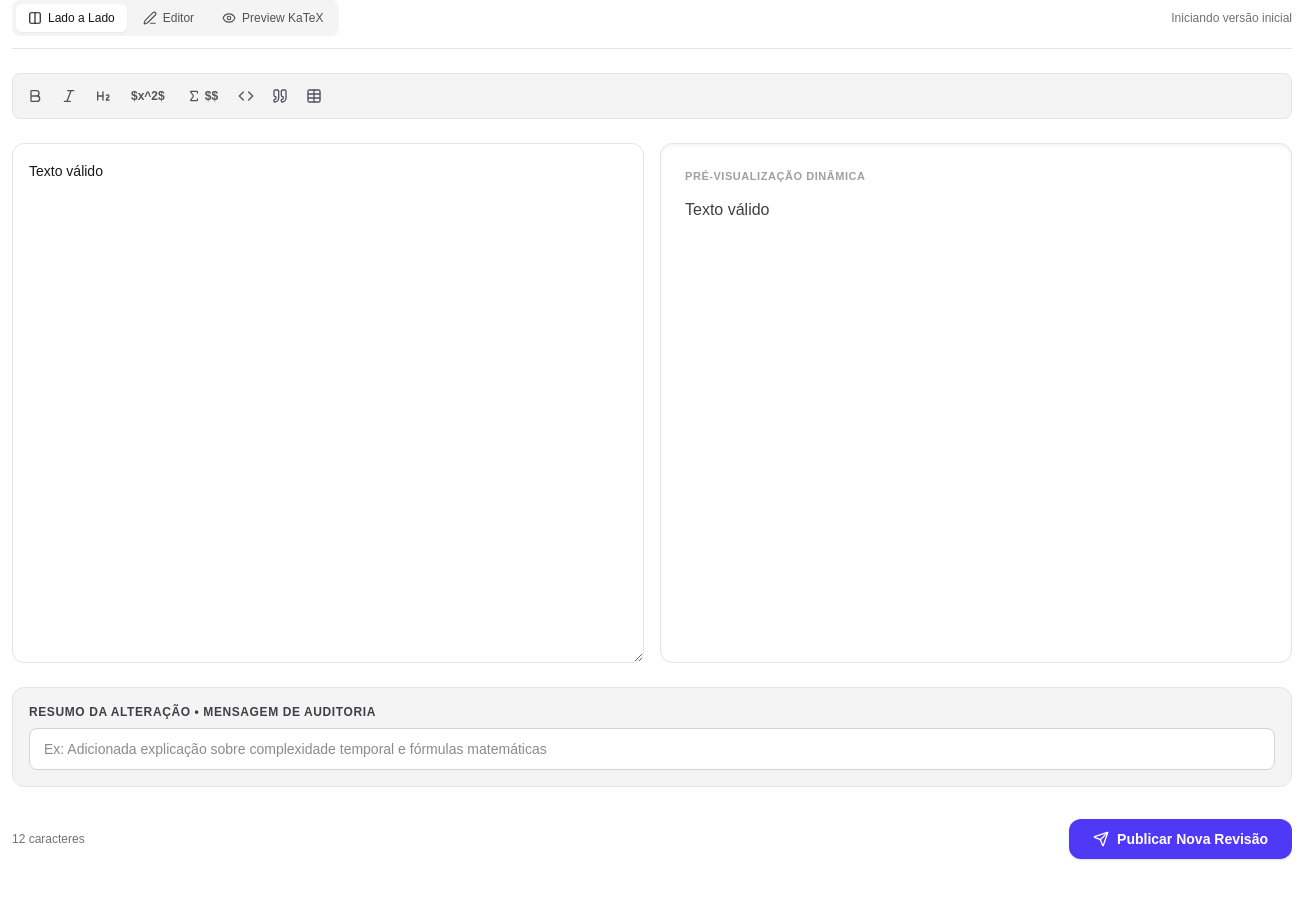
Test: MaterialEditor Component › handles non-Error rejection during submission
Replace the text in the field with placeholder "Ex: Adicionada explicação" with "Tentativa não-error" at (652, 749), box [29,728,1275,770]
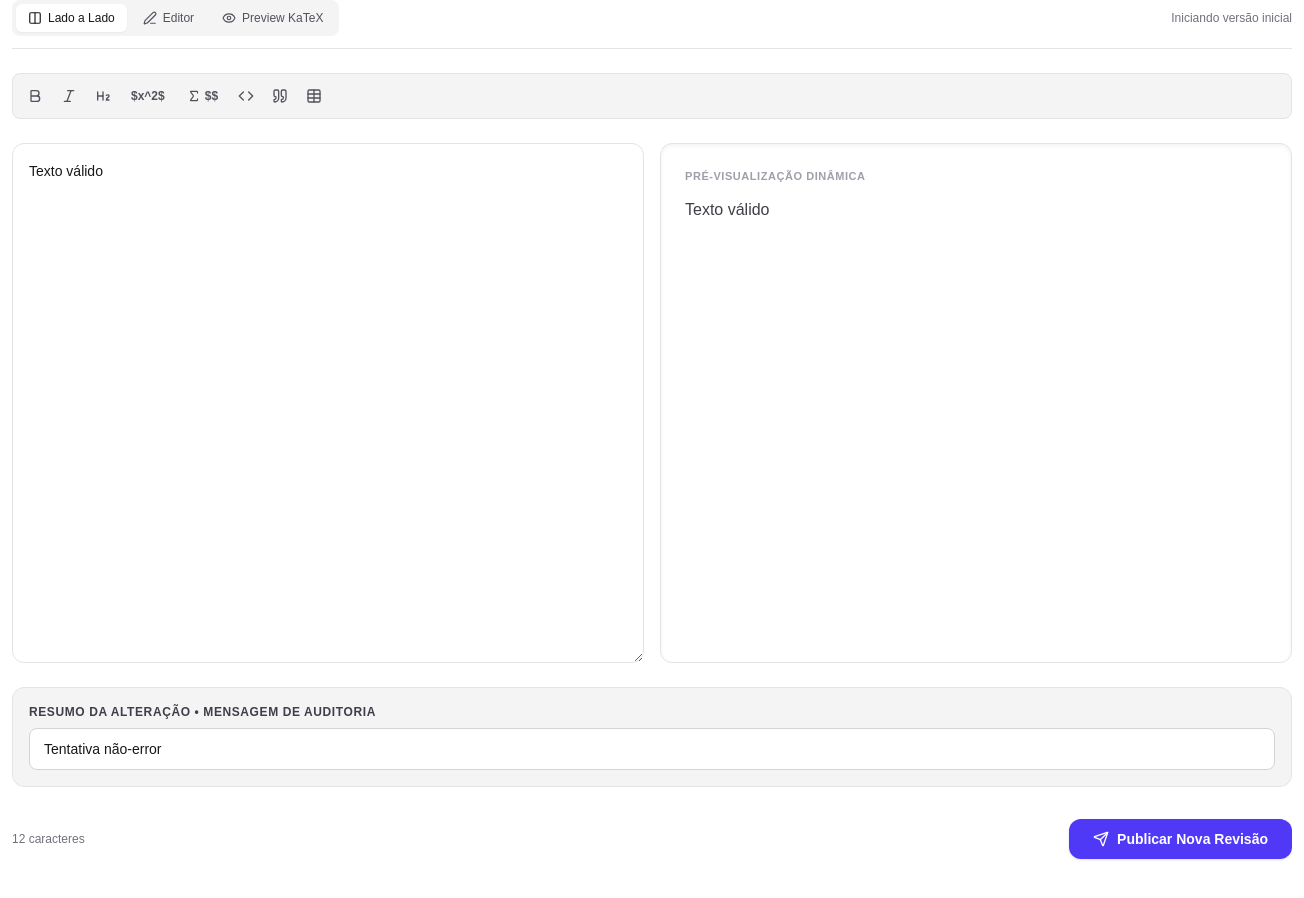
Click the button "Publicar Nova Revisão".
click(1180, 839)  # box [1069,819,1292,859]
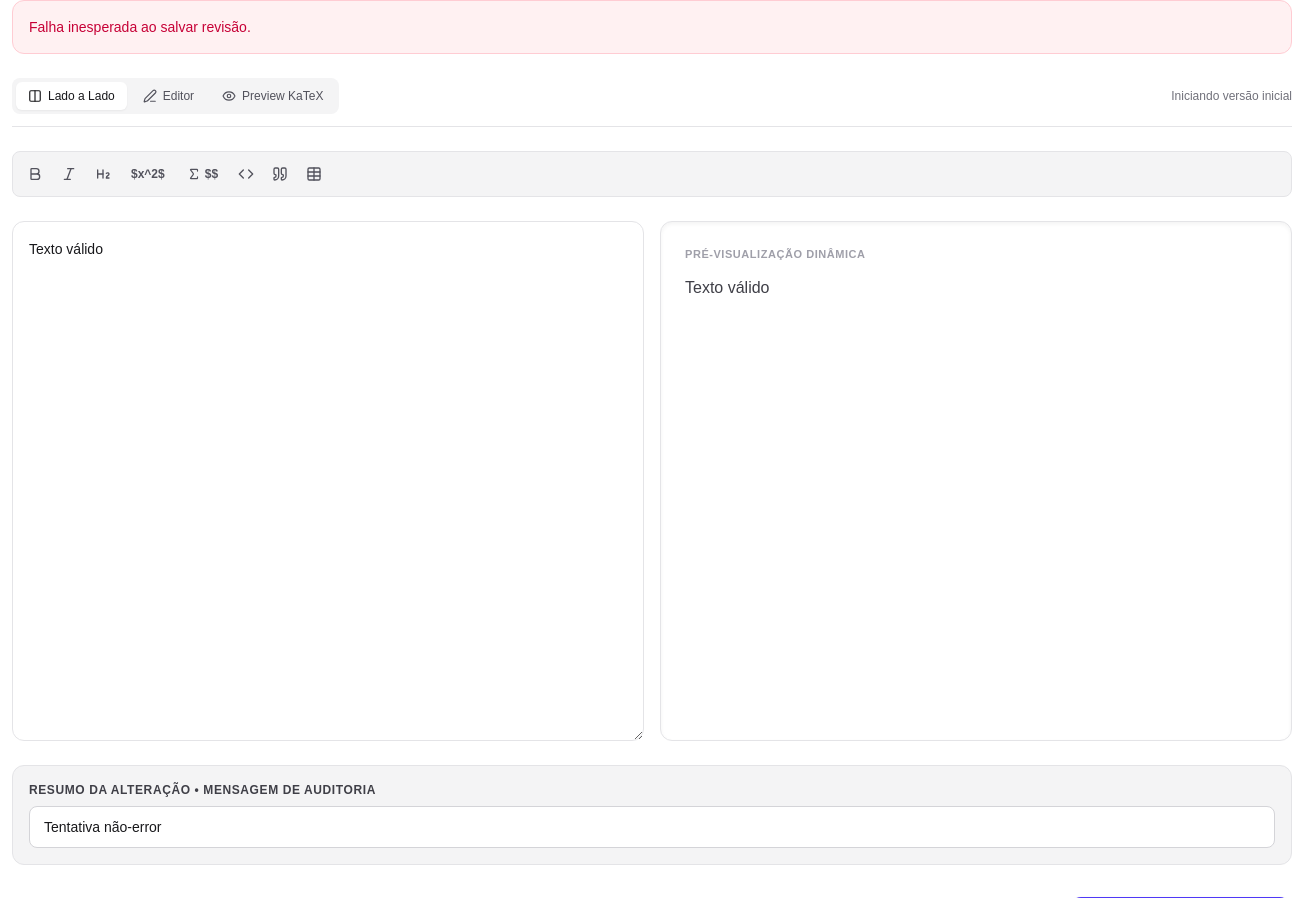
expect the text "Falha inesperada ao salvar revisão." is shown: met, box [12,0,1292,54]
